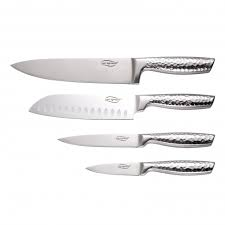kuchillu: (8, 54, 216, 87), (54, 130, 216, 151)
